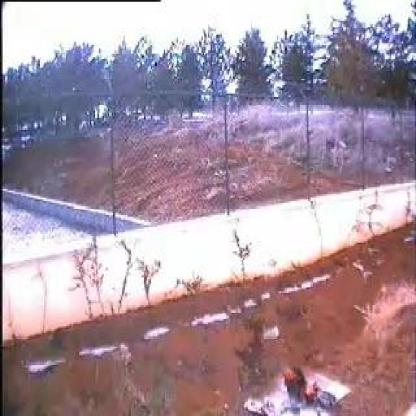foggia-v2-map80-epoch100 - v1 4323: (278, 364, 319, 402)
